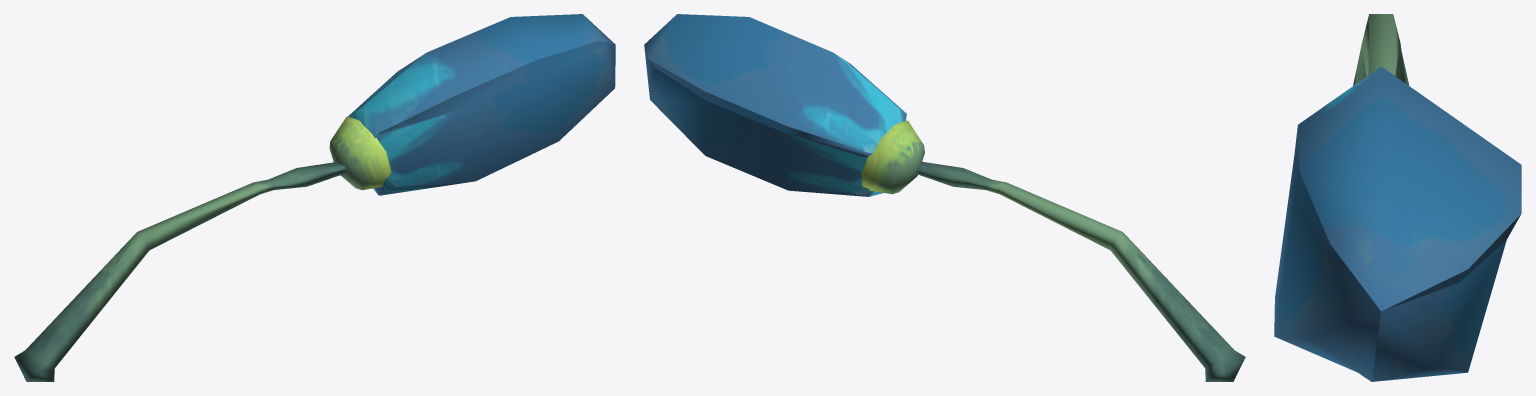
The model's file is bud_flowerBlue.fbx.
3 renders of one model, left to right at view 1: azimuth 30°, elevation 25°; view 2: azimuth 150°, elevation 25°; view 3: azimuth 270°, elevation 25°, orthographic. The views are drawn at different scales.
Parts seen in each view (by area): view 1: bud_flowerBlue; view 2: bud_flowerBlue; view 3: bud_flowerBlue.
Part boxes in pixels (x1,y1,x2,y2): bud_flowerBlue: (14,14,615,381); bud_flowerBlue: (644,14,1245,381); bud_flowerBlue: (1274,14,1521,381).
Size of the model in its own units: 0.5512 by 0.2202 by 0.1066.
